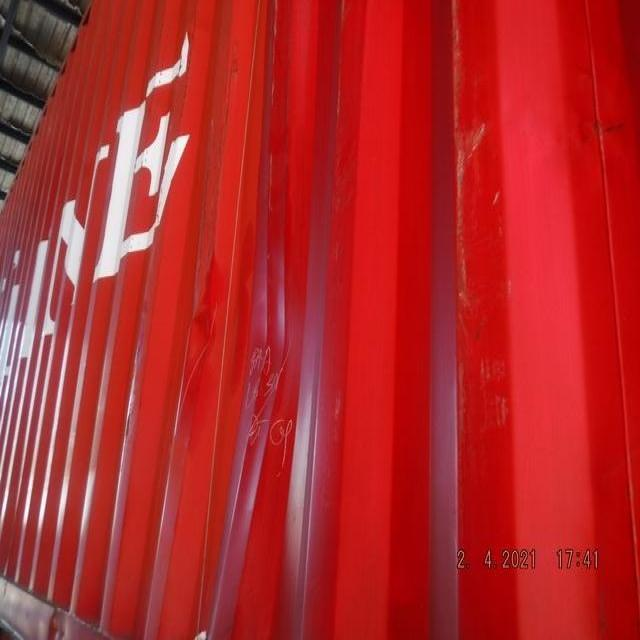Dent: (143, 192, 360, 537)
